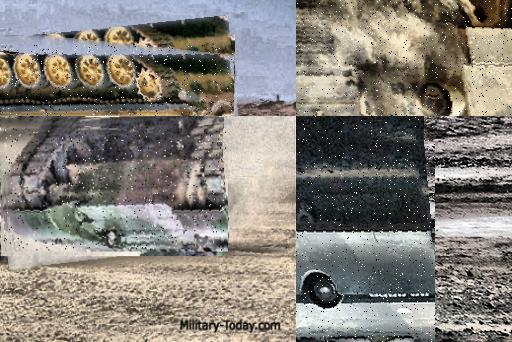tanks: (6, 130, 228, 251), (297, 1, 512, 117), (297, 171, 436, 342), (1, 46, 235, 117)
